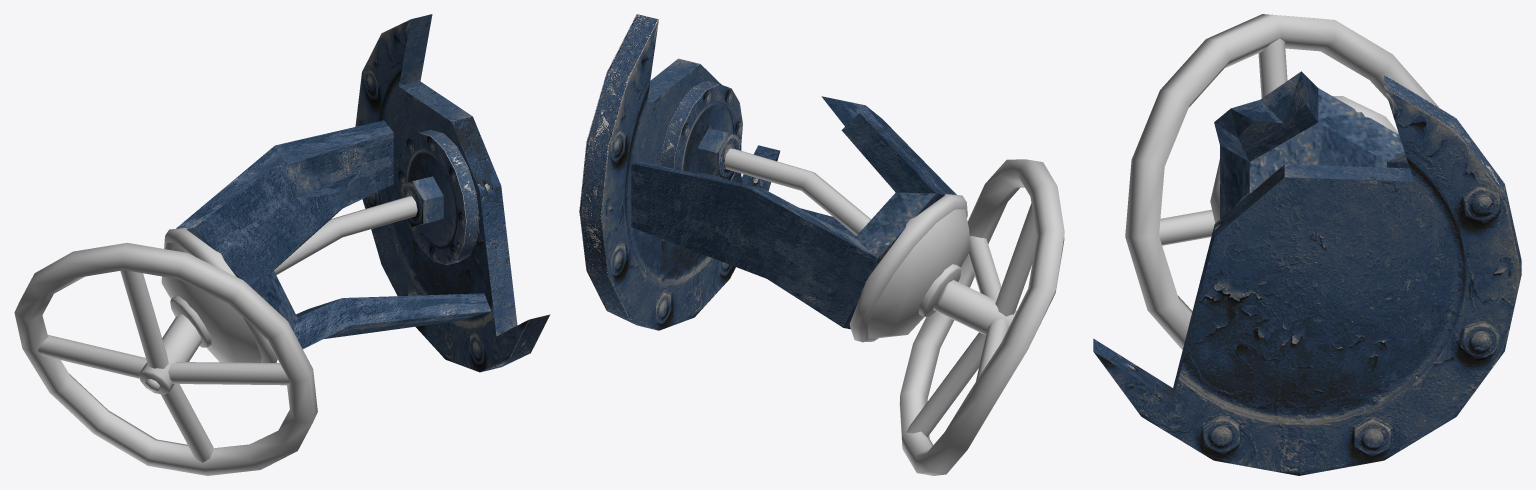
Rendered from valve_broken01_blue.DAE.
The picture shows the model from 3 angles, left to right: view 1: azimuth 30°, elevation 25°; view 2: azimuth 150°, elevation 25°; view 3: azimuth 270°, elevation 25°; orthographic projection. The views are drawn at different scales.
Visible parts, largest first — view 1: Box340, Object521, Object523; view 2: Box340, Object521, Object523; view 3: Object521, Box340, Object523.
Part boxes in pixels (left/top/right/bottom): Box340: left=14, top=196, right=417, bottom=475; Object521: left=355, top=14, right=550, bottom=372; Object523: left=176, top=120, right=490, bottom=348; Box340: left=724, top=148, right=1064, bottom=475; Object521: left=579, top=14, right=780, bottom=330; Object523: left=631, top=96, right=956, bottom=329; Object521: left=1093, top=74, right=1521, bottom=475; Box340: left=1125, top=14, right=1439, bottom=349; Object523: left=1214, top=71, right=1409, bottom=219.
Bounding box in the file's own units: 0.8502 × 0.6316 × 0.7674.
